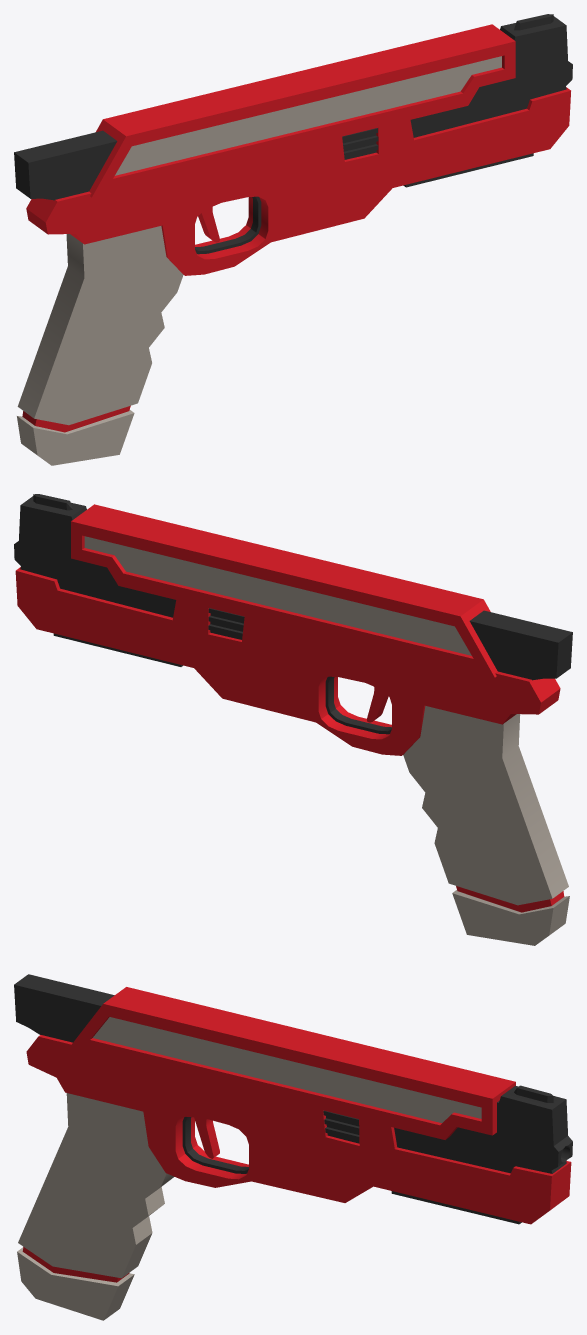
File: pistol.fbx
3 renders of one model, top to bottom at view 1: azimuth 30°, elevation 25°; view 2: azimuth 150°, elevation 25°; view 3: azimuth 330°, elevation 25°, orthographic.
Parts seen in each view (by area): view 1: pistol, slide, grip, underbarrel, inner_tab; view 2: pistol, slide, grip, underbarrel, inner_tab; view 3: pistol, slide, grip, underbarrel, inner_tab.
Boxes of the visible parts, <box> form: pistol: <box>26,87,570,275</box>; slide: <box>89,24,515,197</box>; grip: <box>17,226,183,465</box>; underbarrel: <box>14,14,572,200</box>; inner_tab: <box>342,128,378,159</box>; pistol: <box>15,567,560,755</box>; slide: <box>71,504,497,677</box>; grip: <box>403,706,569,945</box>; underbarrel: <box>14,494,572,680</box>; inner_tab: <box>208,608,244,639</box>; pistol: <box>26,1035,571,1224</box>; slide: <box>69,987,515,1139</box>; grip: <box>17,1093,174,1320</box>; underbarrel: <box>14,974,572,1173</box>; inner_tab: <box>323,1110,359,1143</box>.
Size of the model in its own units: 43.23 by 584 by 335.
